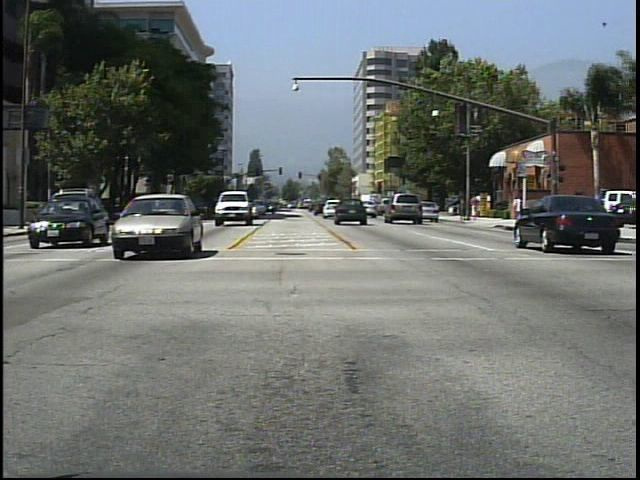person: (470, 190, 482, 223), (515, 192, 521, 228)
